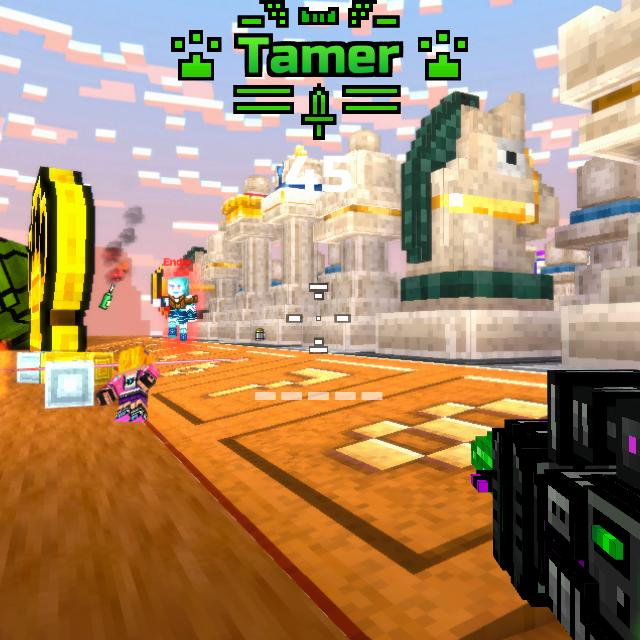Enemy: (153, 276, 198, 341)
